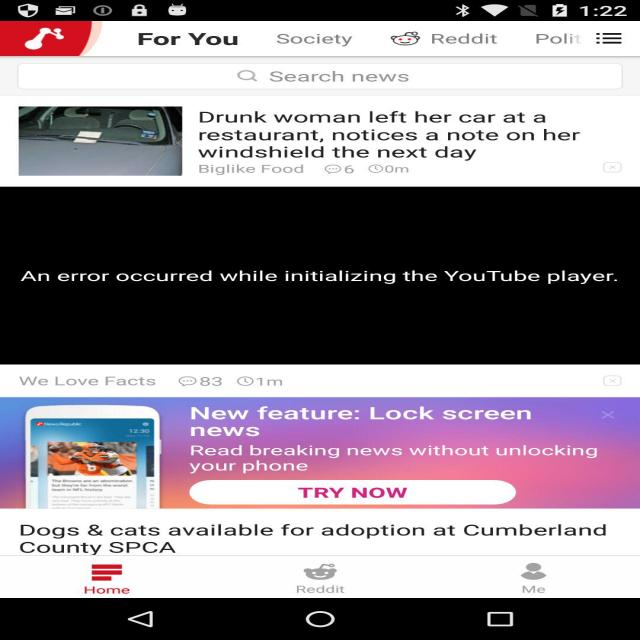button: (7, 401, 640, 507), (4, 97, 613, 184), (56, 559, 640, 602), (132, 26, 586, 58), (594, 26, 631, 52)
image: (8, 23, 116, 60)
